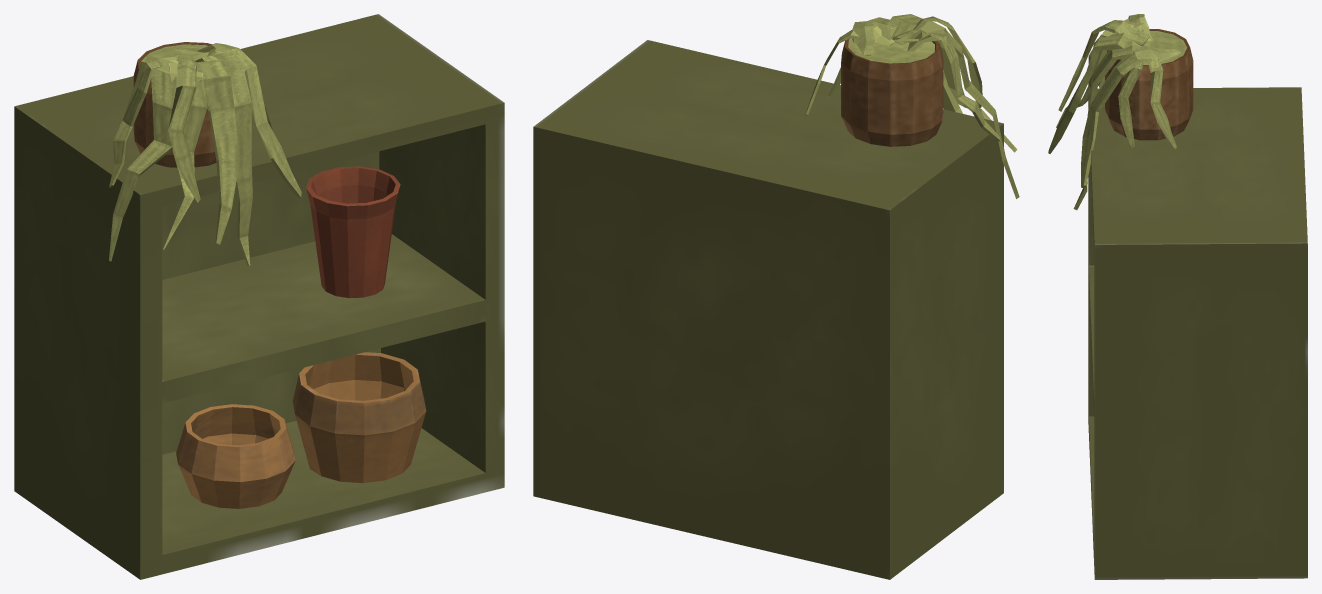
Rendered from repisa_cajon.obj.
3 views of the same model, side by side, from view 1: azimuth 30°, elevation 25°; view 2: azimuth 150°, elevation 25°; view 3: azimuth 270°, elevation 25° (orthographic). The views are drawn at different scales.
Visible parts, largest first — view 1: Cube.001_Material.001, Cylinder.002, Cylinder.004, Cylinder.001, Cube.003, Cube.004, Cube.002, Cube.008, Cube, Cylinder.003, Cube.009, Cube.005 (+1 smaller); view 2: Cube.001_Material.001, Cylinder.003, Cube.004, Cylinder, Cube.009, Cube.003, Cube.008, Cube.005, Cube; view 3: Cube.001_Material.001, Cylinder.003, Cube, Cube.003, Cube.008, Cube.006, Cube.002, Cube.007, Cylinder, Cube.005.
Part boxes in pixels (<box>): Cube.001_Material.001: <box>14,14,504,579</box>; Cylinder.002: <box>292,352,426,483</box>; Cylinder.004: <box>176,404,295,508</box>; Cylinder.001: <box>306,166,400,298</box>; Cube.003: <box>193,59,238,244</box>; Cube.004: <box>109,58,176,261</box>; Cube.002: <box>195,51,252,265</box>; Cube.008: <box>168,54,200,202</box>; Cube: <box>176,43,301,197</box>; Cylinder.003: <box>133,42,216,167</box>; Cube.009: <box>109,56,178,187</box>; Cube.005: <box>163,62,207,249</box>; Cube.001_Material.001: <box>533,40,1003,579</box>; Cylinder.003: <box>841,38,943,146</box>; Cube.004: <box>907,30,1019,198</box>; Cylinder: <box>848,38,934,63</box>; Cube.009: <box>900,33,1000,141</box>; Cube.003: <box>888,14,962,113</box>; Cube.008: <box>892,16,982,107</box>; Cube.005: <box>908,21,1017,152</box>; Cube: <box>852,21,875,55</box>; Cube.001_Material.001: <box>1088,87,1307,579</box>; Cylinder.003: <box>1105,29,1193,140</box>; Cube: <box>1081,45,1180,187</box>; Cube.003: <box>1048,32,1131,153</box>; Cube.008: <box>1058,20,1150,111</box>; Cube.006: <box>1147,56,1176,149</box>; Cube.002: <box>1073,41,1141,210</box>; Cube.007: <box>1118,63,1143,148</box>; Cylinder: <box>1143,31,1186,64</box>; Cube.005: <box>1056,23,1134,127</box>.
Bounding box in the file's own units: 2.13 × 2.56 × 1.41.
Materials: 1 (1 with a texture image).
